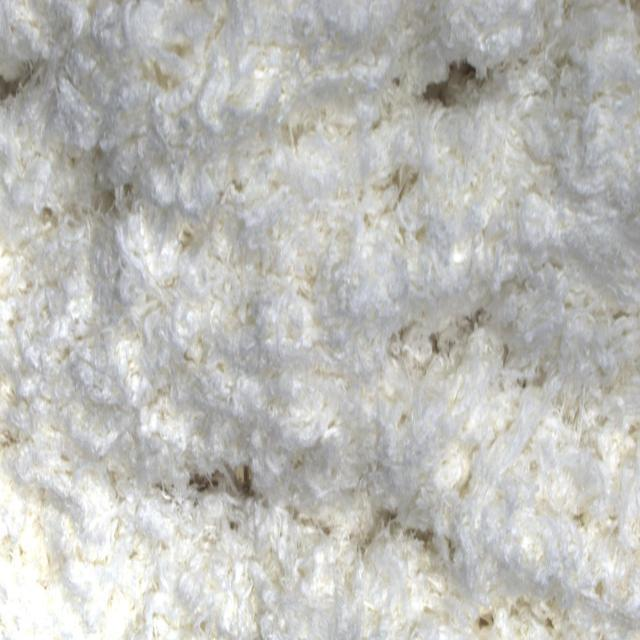dust: (191, 463, 274, 525), (411, 59, 492, 117)
